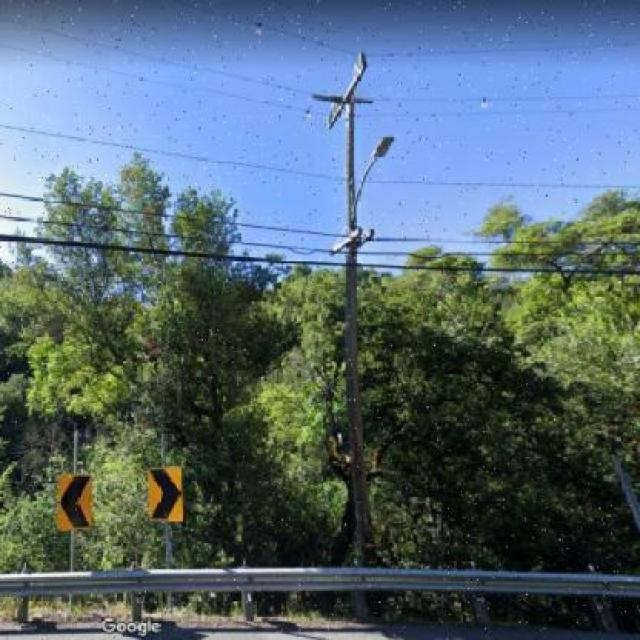pole: (296, 30, 401, 608)
